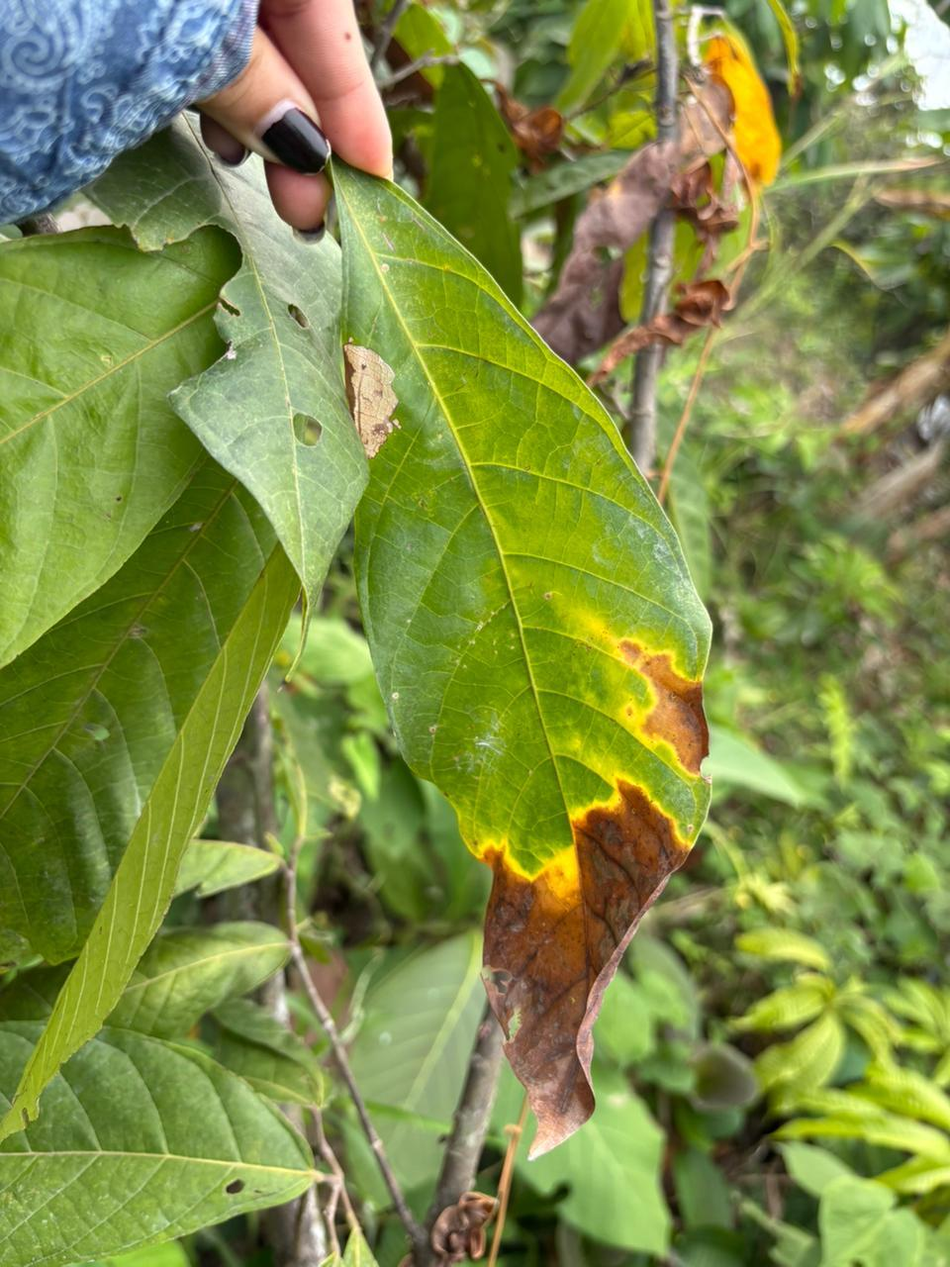Potasio: (337, 169, 710, 1152)
